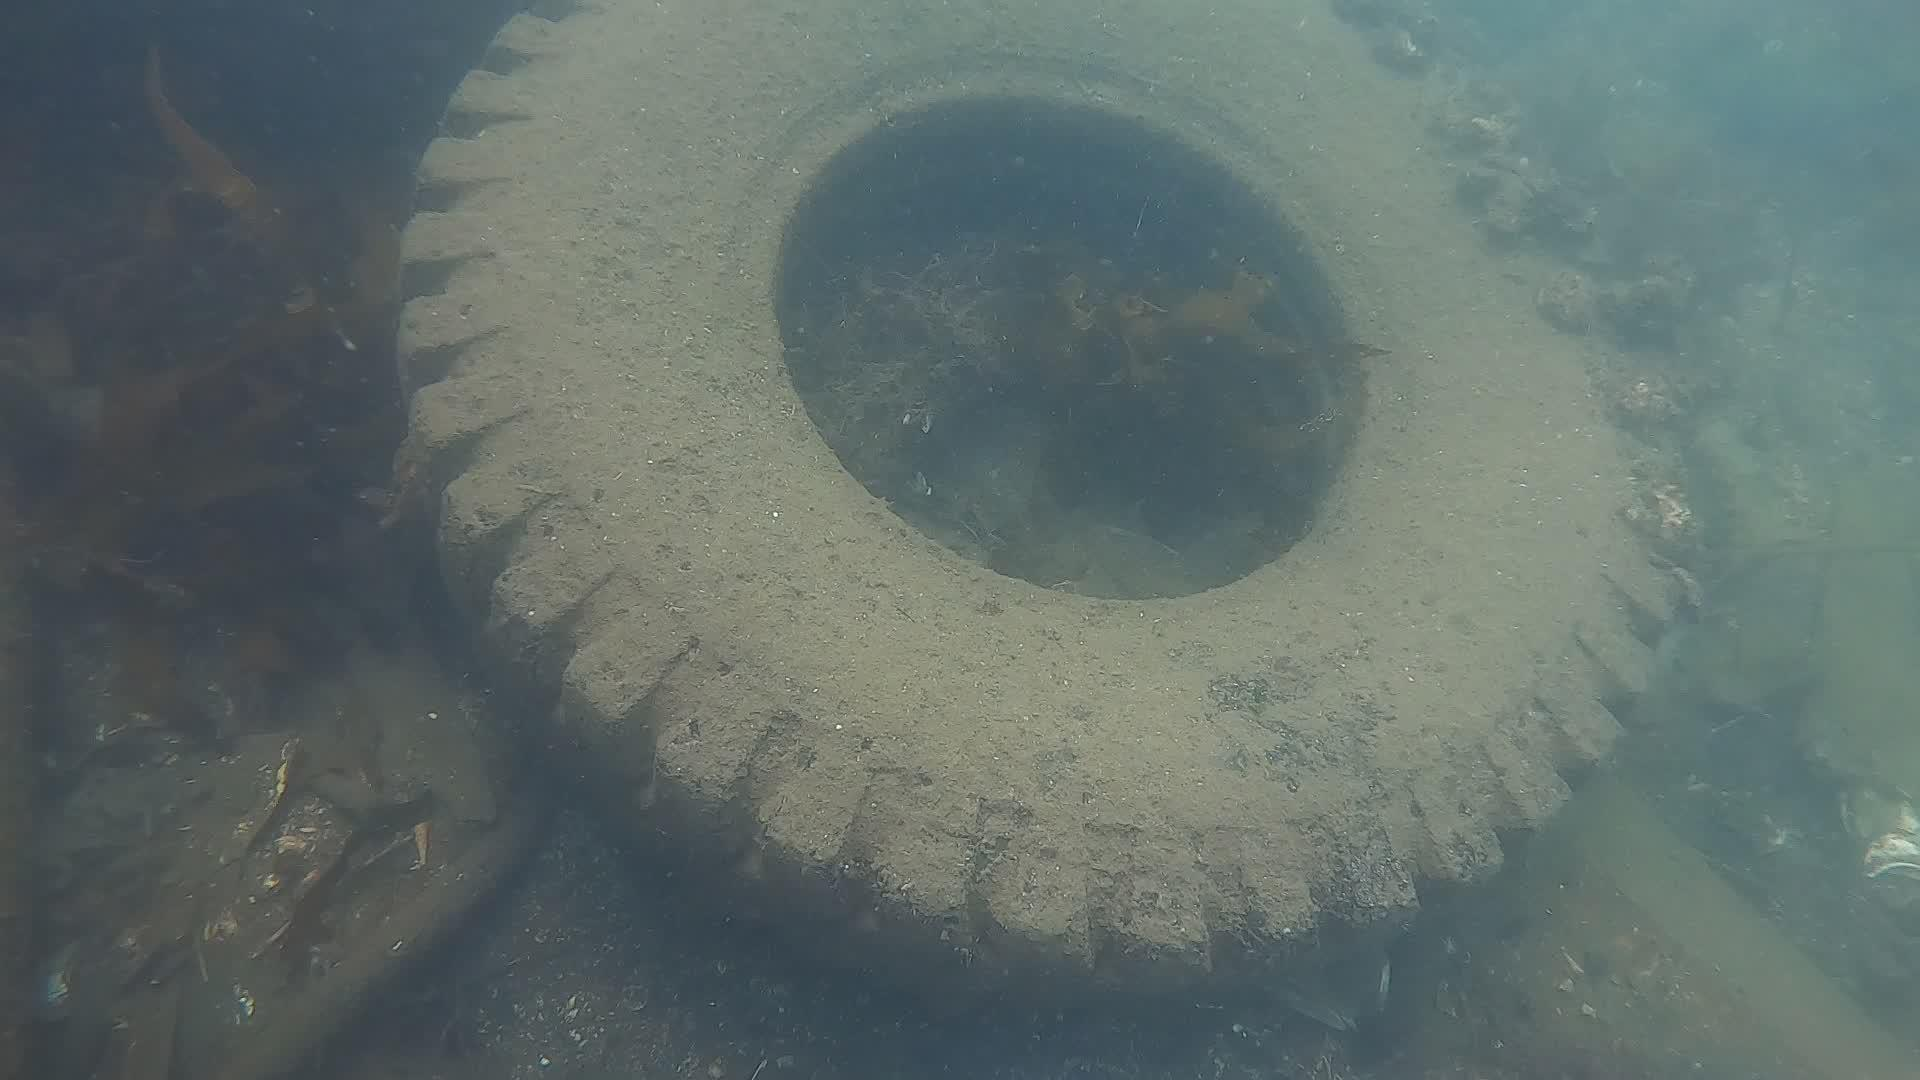tire: (396, 0, 1698, 1022)
